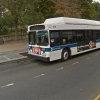Bus: (22, 15, 100, 61)
